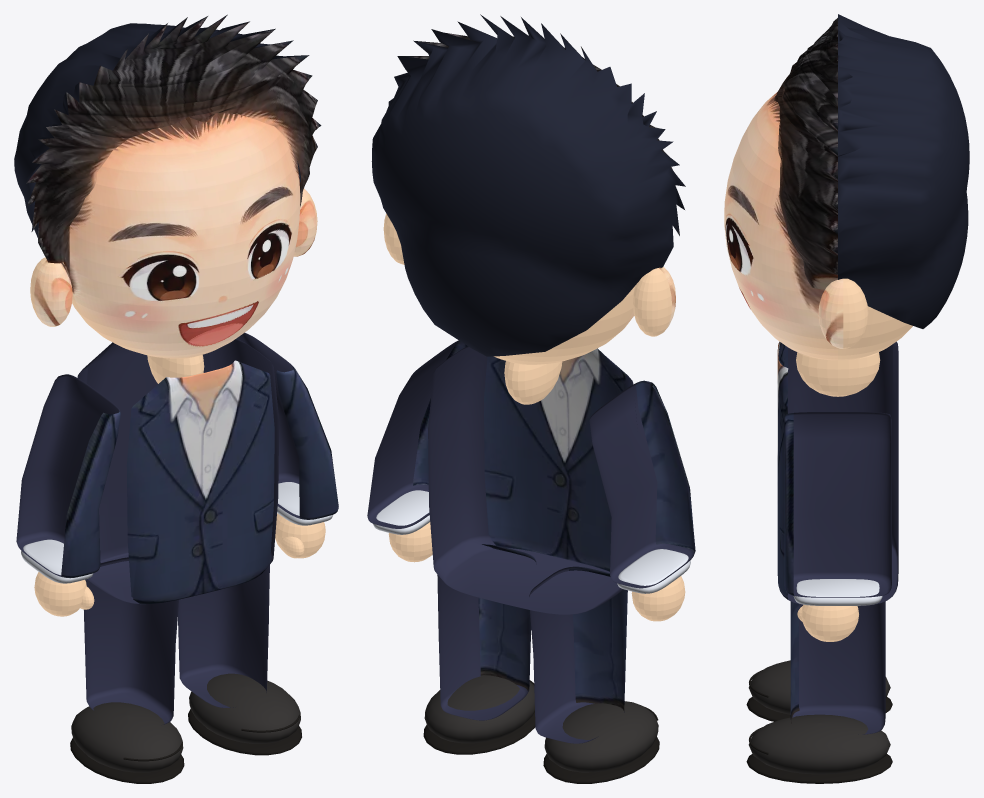
File: xuzhijie.glb
The picture shows the model from 3 angles, left to right: view 1: azimuth 30°, elevation 25°; view 2: azimuth 150°, elevation 25°; view 3: azimuth 270°, elevation 25°; orthographic projection. The views are drawn at different scales.
Parts seen in each view (by area): view 1: Concept jacket with open white collar - no tie, Smooth round head - concept pixel face, Swept concept hair front, Smooth derived short-hair back cap, Seam matched neck; view 2: Smooth derived short-hair back cap, Concept jacket with open white collar - no tie, Smooth round head - concept pixel face, Seam matched neck; view 3: Smooth derived short-hair back cap, Concept jacket with open white collar - no tie, Smooth round head - concept pixel face, Swept concept hair front, Seam matched neck.
Boxes of the visible parts, left/top/right/bottom form: Concept jacket with open white collar - no tie: left=16, top=332, right=338, bottom=761; Smooth round head - concept pixel face: left=30, top=112, right=317, bottom=358; Swept concept hair front: left=26, top=14, right=321, bottom=277; Smooth derived short-hair back cap: left=14, top=16, right=332, bottom=783; Seam matched neck: left=34, top=355, right=325, bottom=616; Smooth derived short-hair back cap: left=371, top=14, right=690, bottom=783; Concept jacket with open white collar - no tie: left=367, top=340, right=695, bottom=743; Smooth round head - concept pixel face: left=383, top=213, right=675, bottom=364; Seam matched neck: left=388, top=361, right=685, bottom=621; Smooth derived short-hair back cap: left=746, top=14, right=969, bottom=783; Concept jacket with open white collar - no tie: left=749, top=341, right=898, bottom=754; Smooth round head - concept pixel face: left=724, top=92, right=912, bottom=360; Swept concept hair front: left=774, top=18, right=837, bottom=289; Seam matched neck: left=796, top=352, right=880, bottom=641.
Bounding box in the file's own units: 1.29 × 3 × 0.9323.
Materials: 7 (7 with a texture image).
